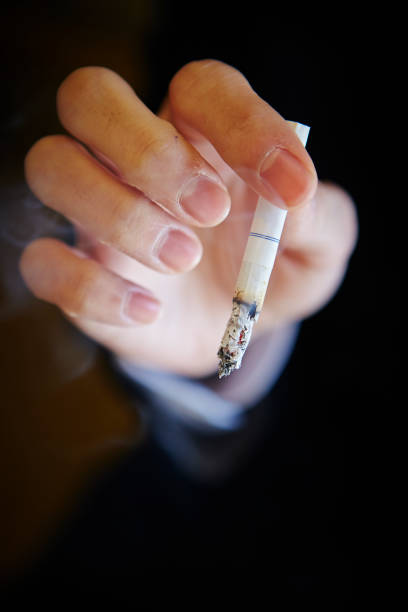cigarette: (213, 119, 314, 377)
